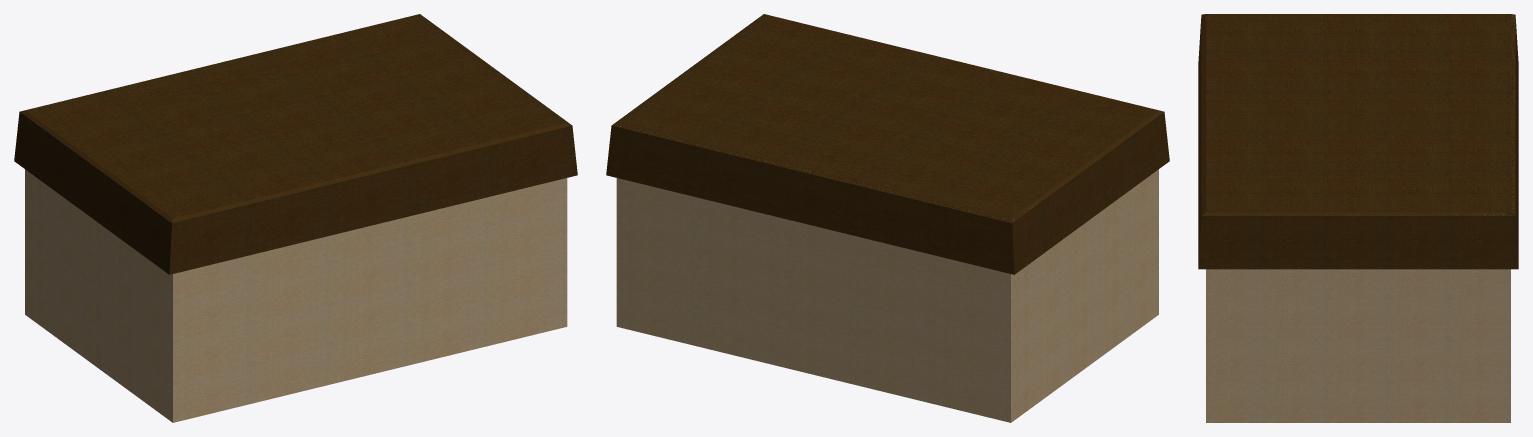
The model's file is pudelko.FBX.
3 views of the same model, side by side, from view 1: azimuth 30°, elevation 25°; view 2: azimuth 150°, elevation 25°; view 3: azimuth 270°, elevation 25° (orthographic). The views are drawn at different scales.
Parts seen in each view (by area): view 1: Box001; view 2: Box001; view 3: Box001.
Part boxes in pixels (left/top/right/bottom): Box001: left=14, top=14, right=577, bottom=422; Box001: left=606, top=14, right=1169, bottom=422; Box001: left=1198, top=14, right=1518, bottom=422.
Bounding box in the file's own units: 93.98 × 44.94 × 61.93.
2 materials, 2 textured.
